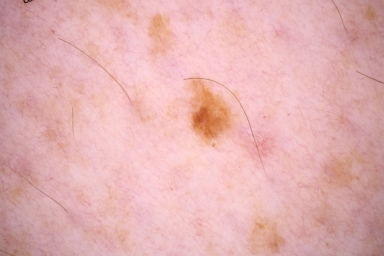nevus: (193, 90, 226, 147)
